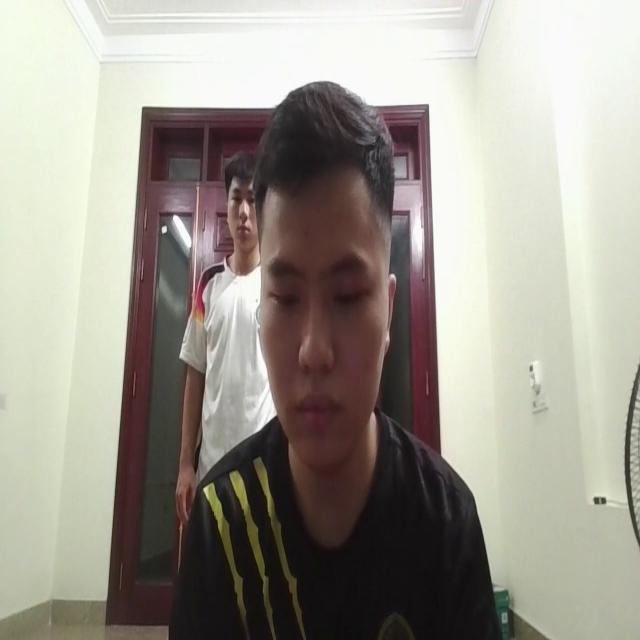extra_person: (175, 138, 266, 516)
student: (178, 75, 495, 640)
